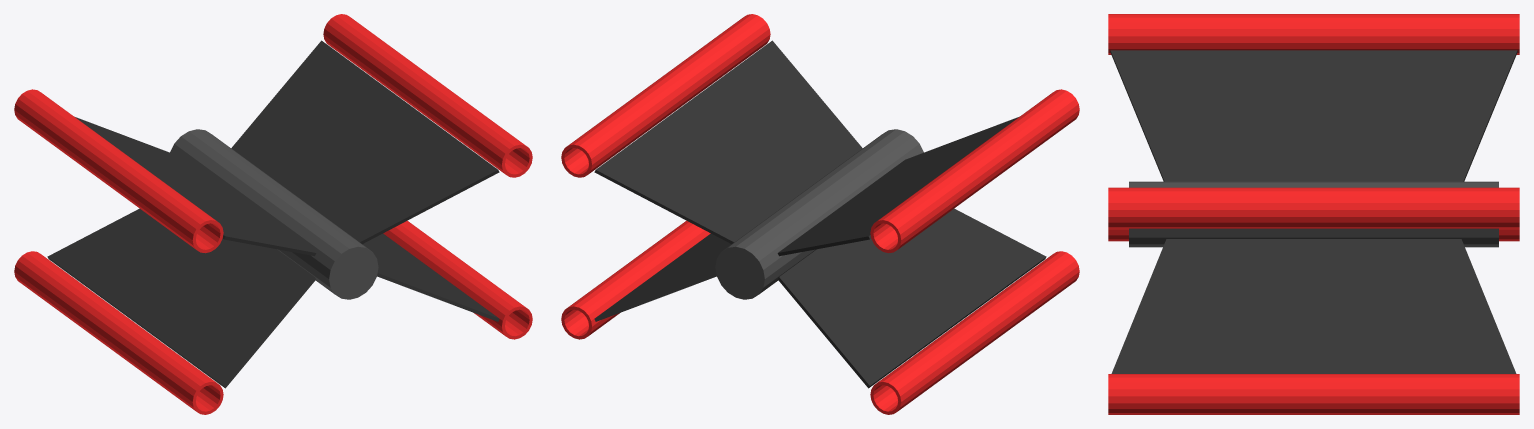
File: XFighter.fbx
The picture shows the model from 3 angles, left to right: view 1: azimuth 30°, elevation 25°; view 2: azimuth 150°, elevation 25°; view 3: azimuth 270°, elevation 25°; orthographic projection. The views are drawn at different scales.
Visible parts, largest first — view 1: Wing_0, Wing_1, Body, Muzzle_0, Muzzle_3, Muzzle_2, Muzzle_1; view 2: Wing_0, Wing_1, Body, Muzzle_0, Muzzle_3, Muzzle_2, Muzzle_1; view 3: Wing_1, Muzzle_3, Muzzle_1, Muzzle_2, Body, Muzzle_0.
Part boxes in pixels (box(x1,y1,x2,y2)): Wing_0: box(47, 40, 499, 388); Wing_1: box(74, 116, 499, 321); Body: box(170, 129, 378, 299); Muzzle_0: box(14, 251, 223, 414); Muzzle_3: box(323, 14, 532, 177); Muzzle_2: box(14, 89, 223, 253); Muzzle_1: box(383, 220, 532, 339); Wing_0: box(594, 40, 1046, 388); Wing_1: box(594, 116, 1019, 321); Body: box(715, 129, 923, 299); Muzzle_0: box(870, 251, 1079, 414); Muzzle_3: box(561, 14, 770, 177); Muzzle_2: box(870, 89, 1079, 253); Muzzle_1: box(561, 220, 710, 339); Wing_1: box(1110, 50, 1517, 373); Muzzle_3: box(1108, 187, 1519, 228); Muzzle_1: box(1108, 374, 1519, 414); Muzzle_2: box(1108, 14, 1519, 54); Body: box(1129, 181, 1498, 247); Muzzle_0: box(1108, 228, 1519, 241).
Bounding box in the file's own units: 110 × 59.85 × 100.
